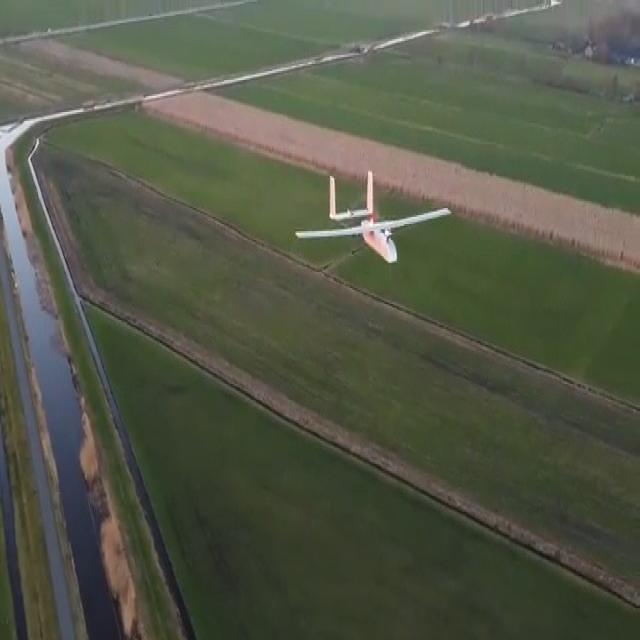drones: (291, 167, 456, 281)
